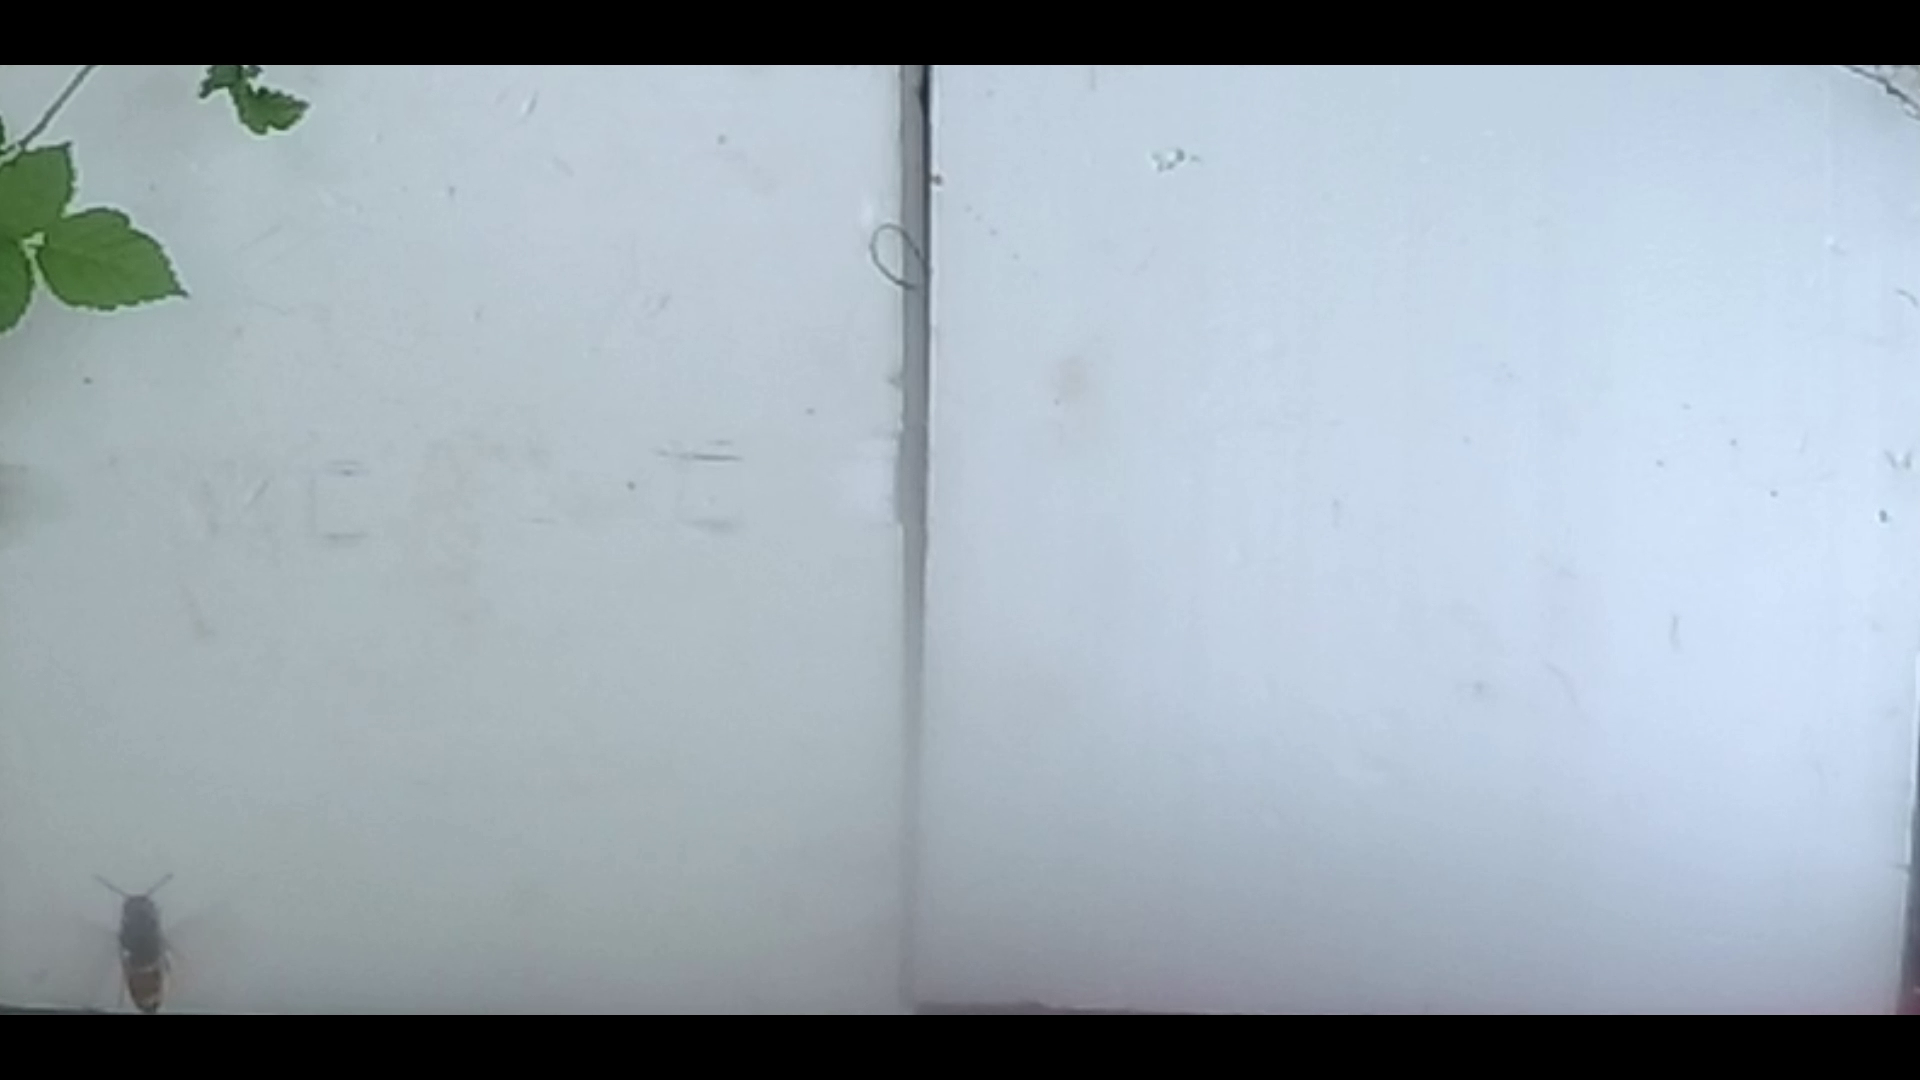Asian_hornets: (78, 870, 224, 1017)
